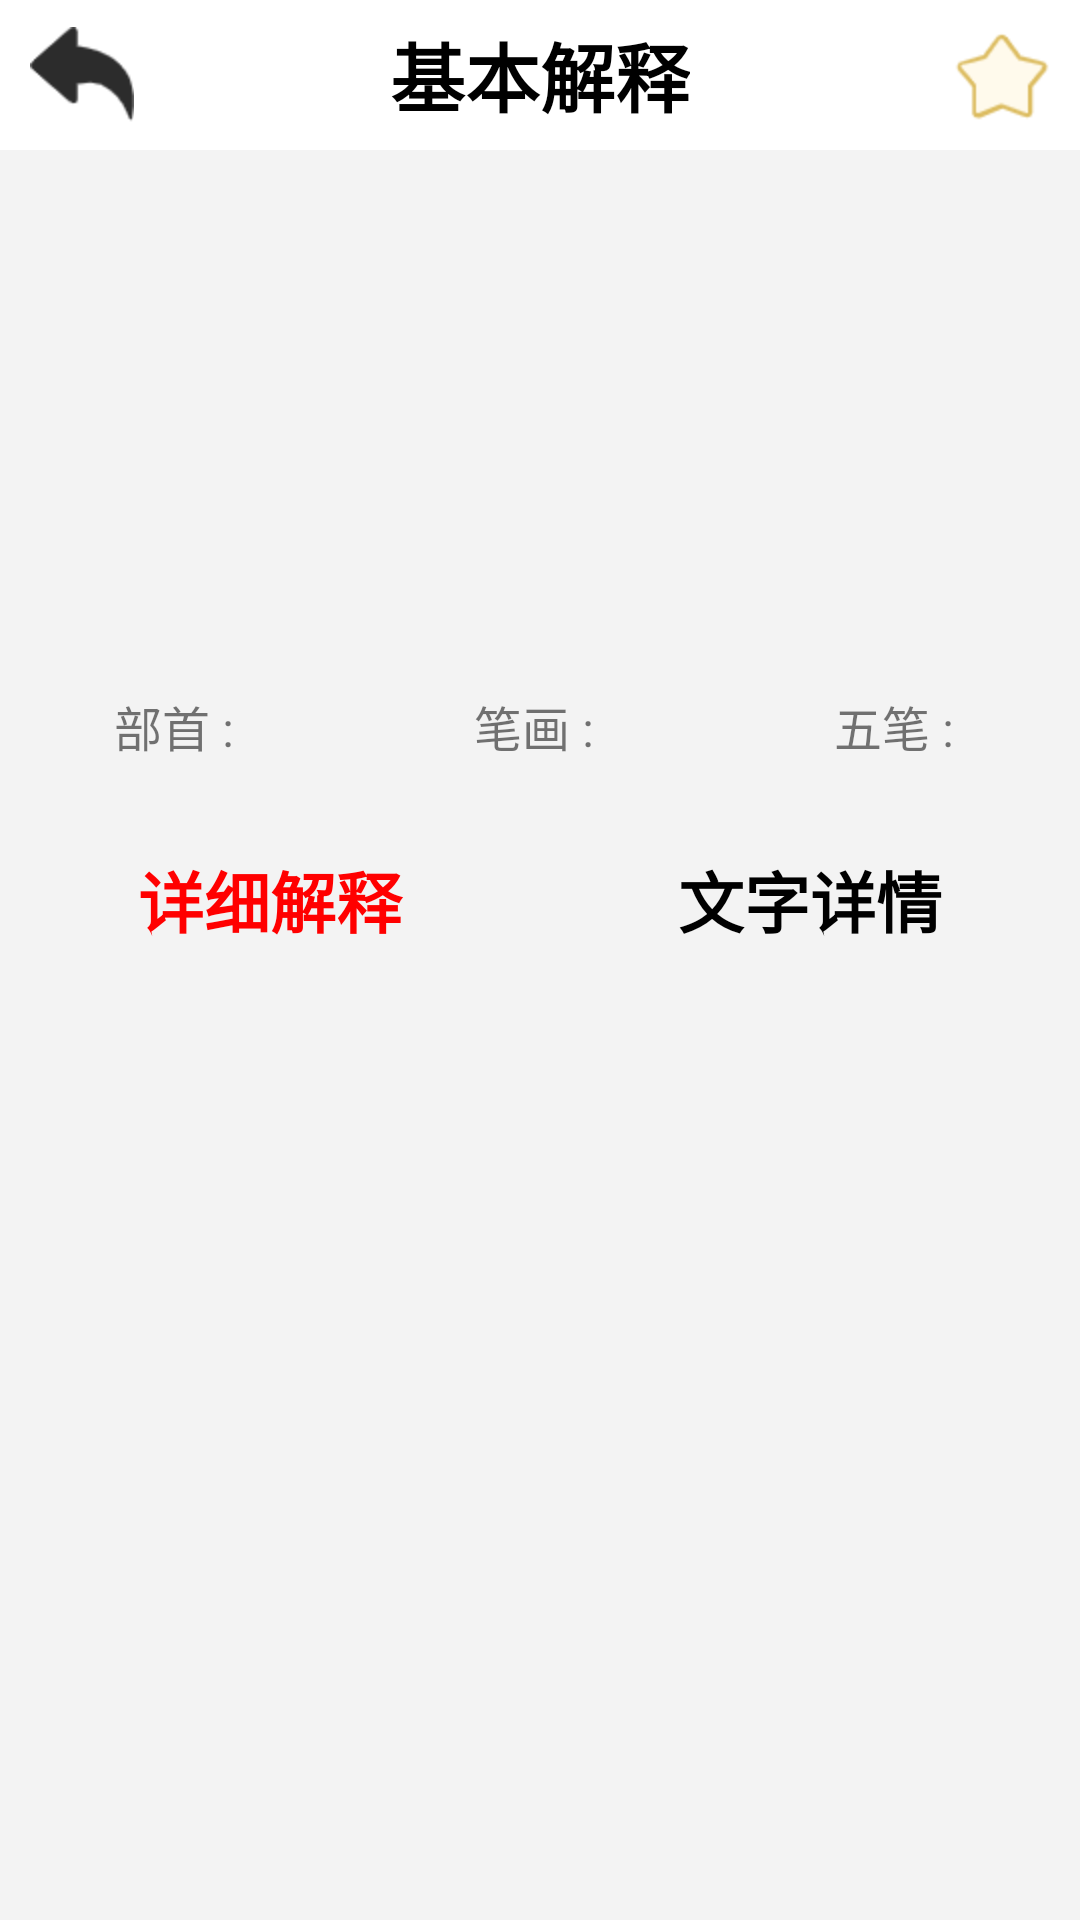

Icon click points for this 1080x1920 phone screenshot, format (x=x, y=y):
back: (x=82, y=74)
collection: (x=1002, y=76)
